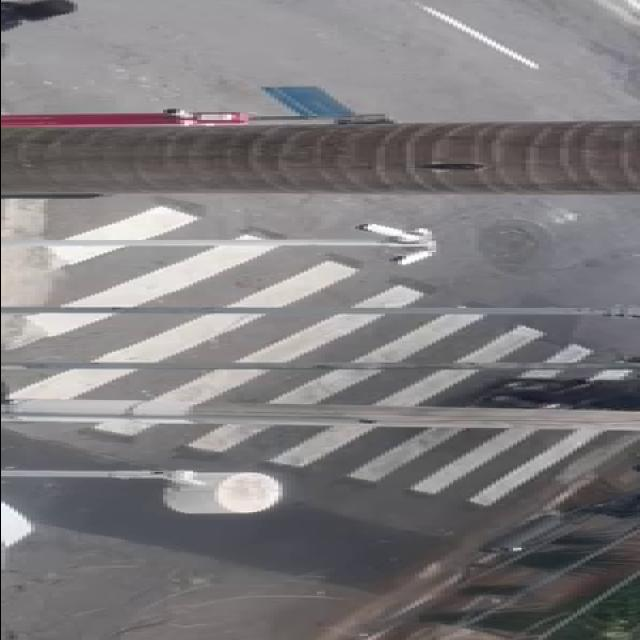motorbike: (450, 367, 632, 431)
